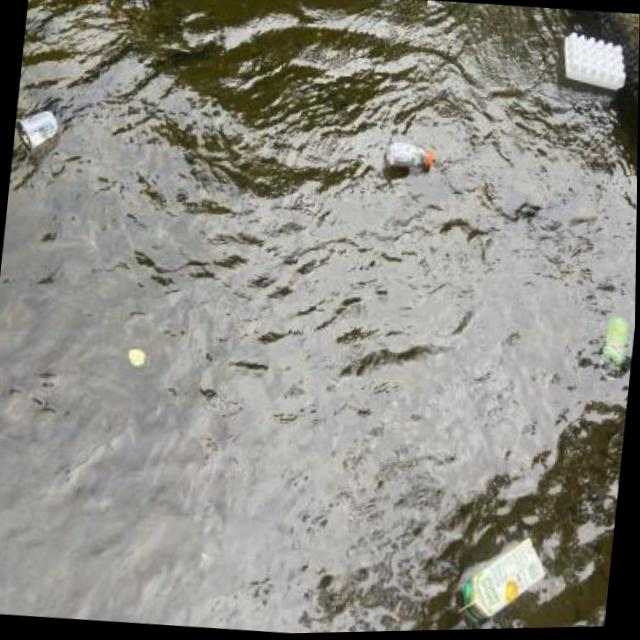Can-Metal: (595, 313, 636, 386)
Cardboard: (450, 523, 554, 632)
Plastic: (552, 23, 633, 106), (11, 96, 65, 161), (378, 131, 441, 179)
